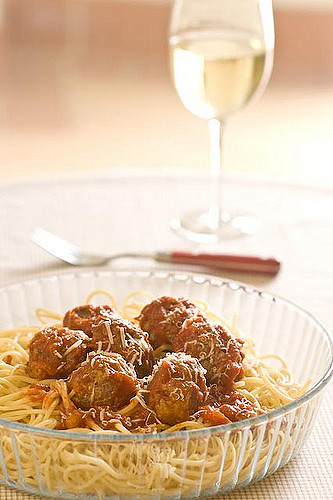meatballs: (159, 346, 209, 415), (148, 299, 218, 345), (29, 330, 90, 366)
plain spaghetti: (16, 429, 243, 500), (263, 360, 275, 400)
